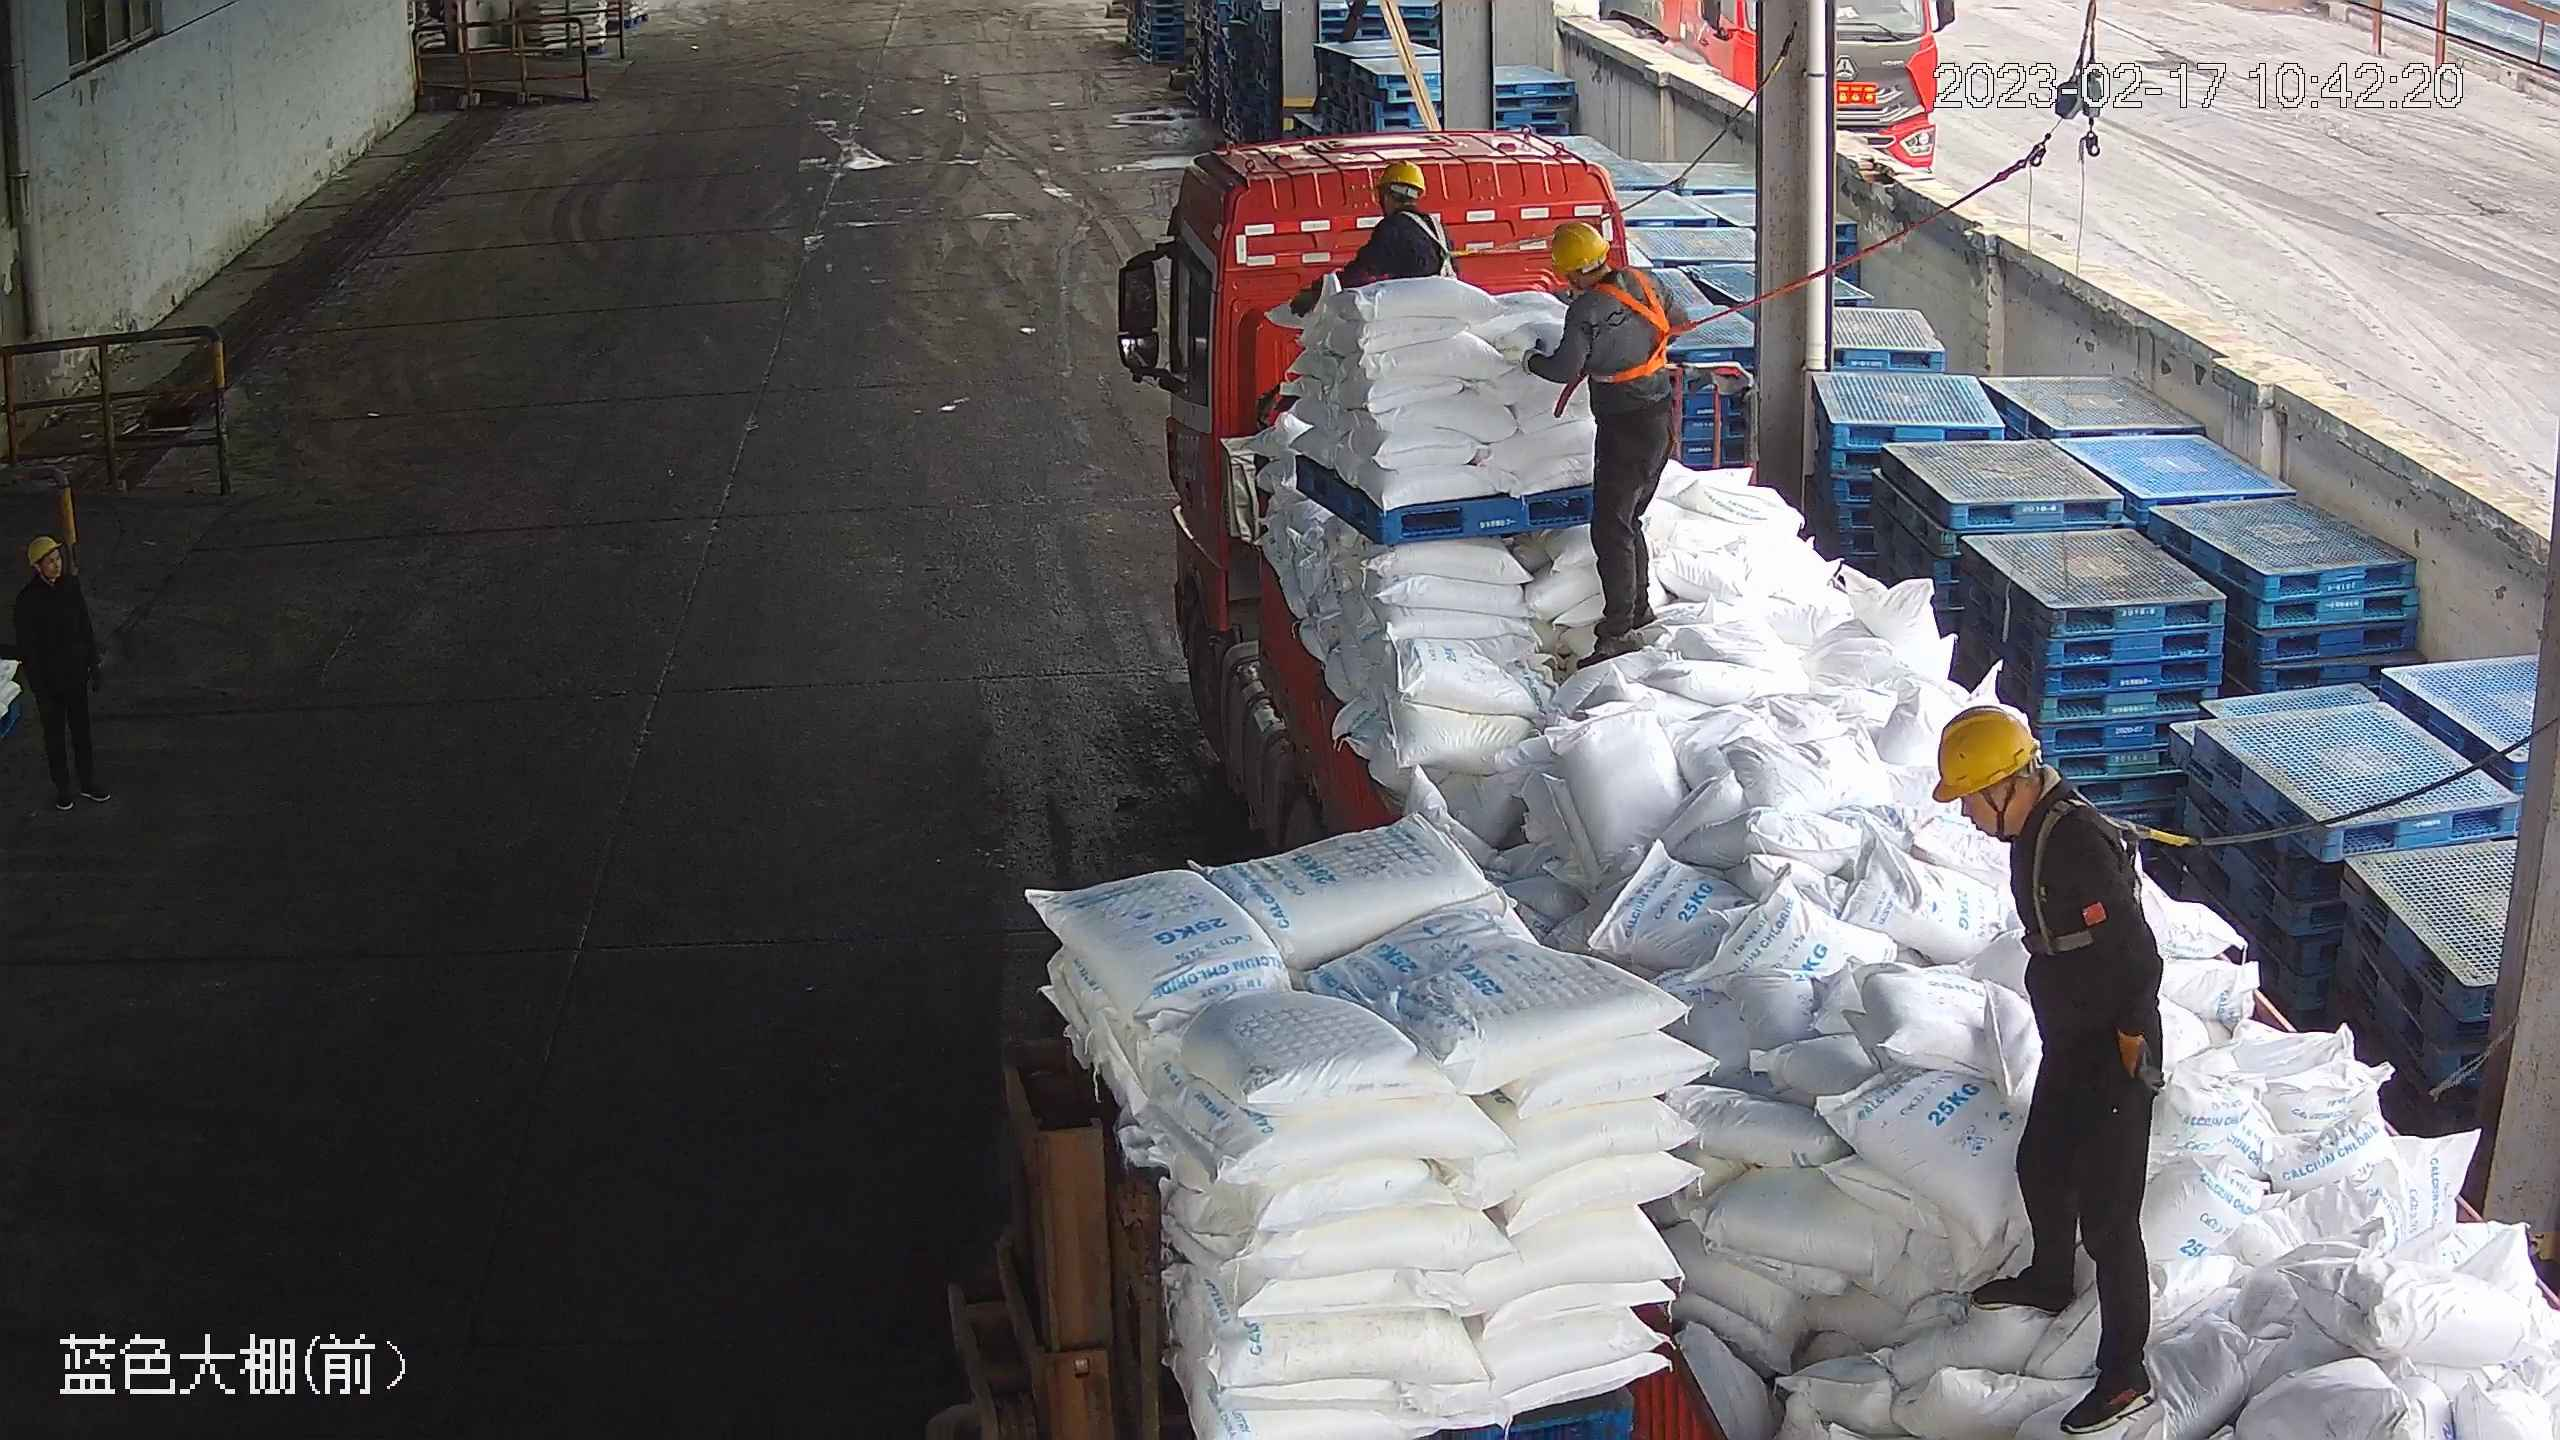belt: (2008, 790, 2168, 950), (1589, 268, 1695, 387), (1392, 204, 1468, 280)
head: (1933, 707, 2136, 913), (1541, 221, 1671, 354), (1352, 155, 1450, 266), (12, 534, 91, 618)
helmet: (1933, 704, 2043, 804), (1545, 219, 1612, 276), (1371, 155, 1428, 193), (23, 535, 61, 565)
people: (1933, 706, 2174, 1425), (1526, 220, 1686, 671), (9, 533, 112, 813)
truck: (1116, 129, 2560, 1440)
